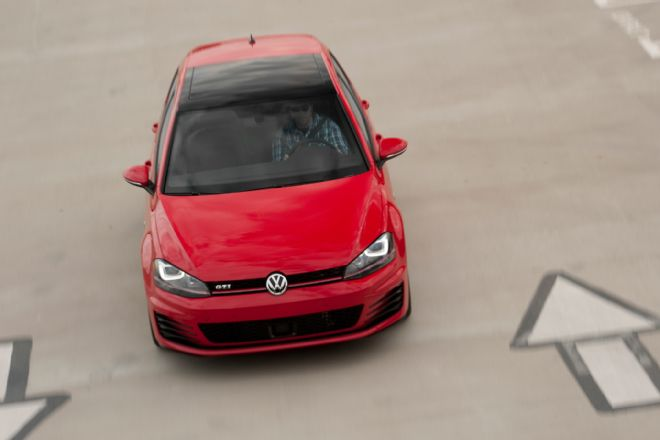car: (122, 32, 413, 358)
